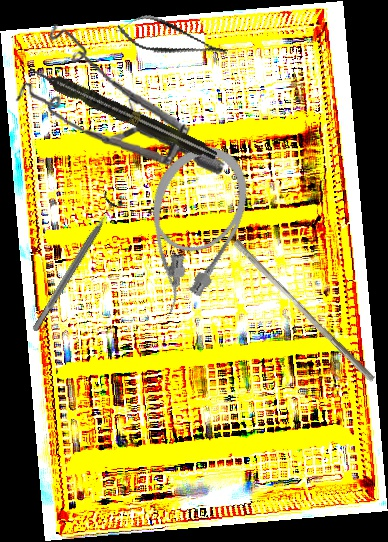Cannula: (115, 133, 263, 325)
Fixation Ring: (24, 189, 126, 337)
Handpiece: (26, 61, 220, 164)
Micro Scissor: (113, 7, 232, 72)
Pusher: (228, 238, 381, 383)
Speculum: (10, 21, 234, 176)
